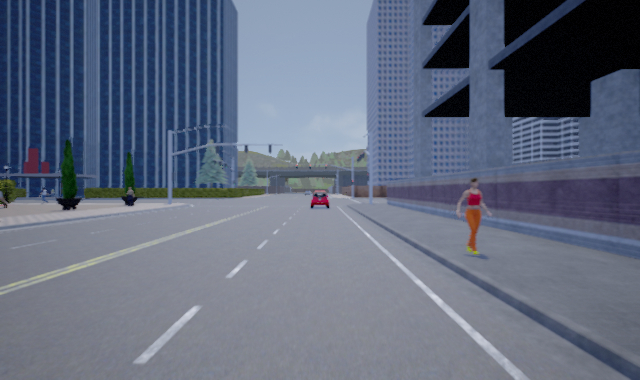pedestrian: (455, 177, 491, 255), (124, 185, 136, 206), (38, 186, 49, 203)
vehicle: (309, 189, 330, 209)
